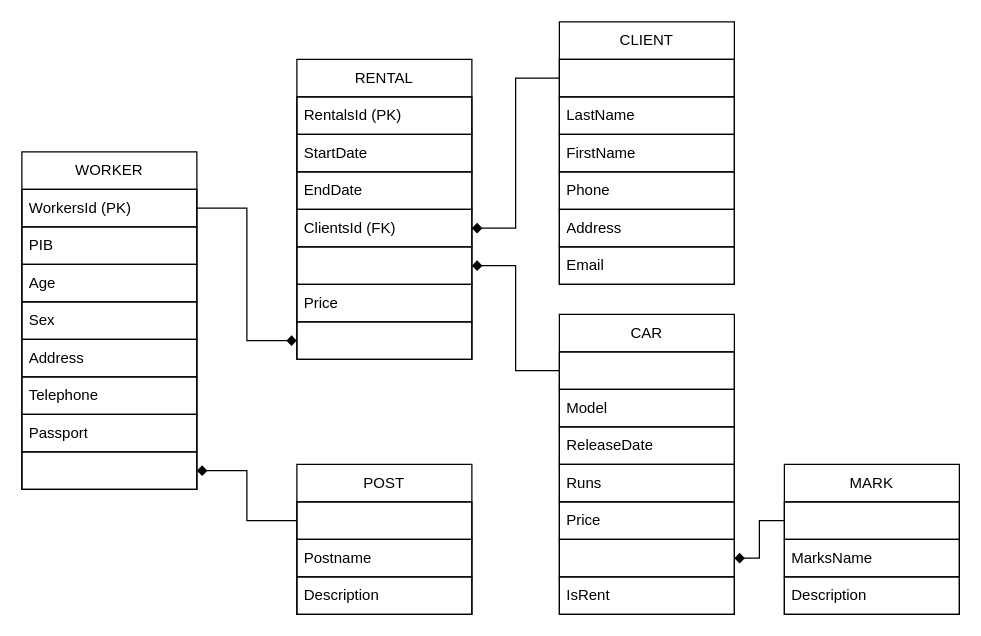
The diagram is 981 pixels wide and 636 high, and some of its shapes have lost their labels. Here are the shapes that lost their labels. From the top down, the centre of each, then its label:
the point at 646,77: ClientsId (PK)
the point at 384,265: CarsId (FK)
the point at 384,340: WorkersId (FK)
the point at 646,370: CarsId (PK)
the point at 109,470: PostsId (FK)
the point at 384,520: PostsId (PK)
the point at 871,520: MarkId (PK)
the point at 646,557: MarksId (FK)
